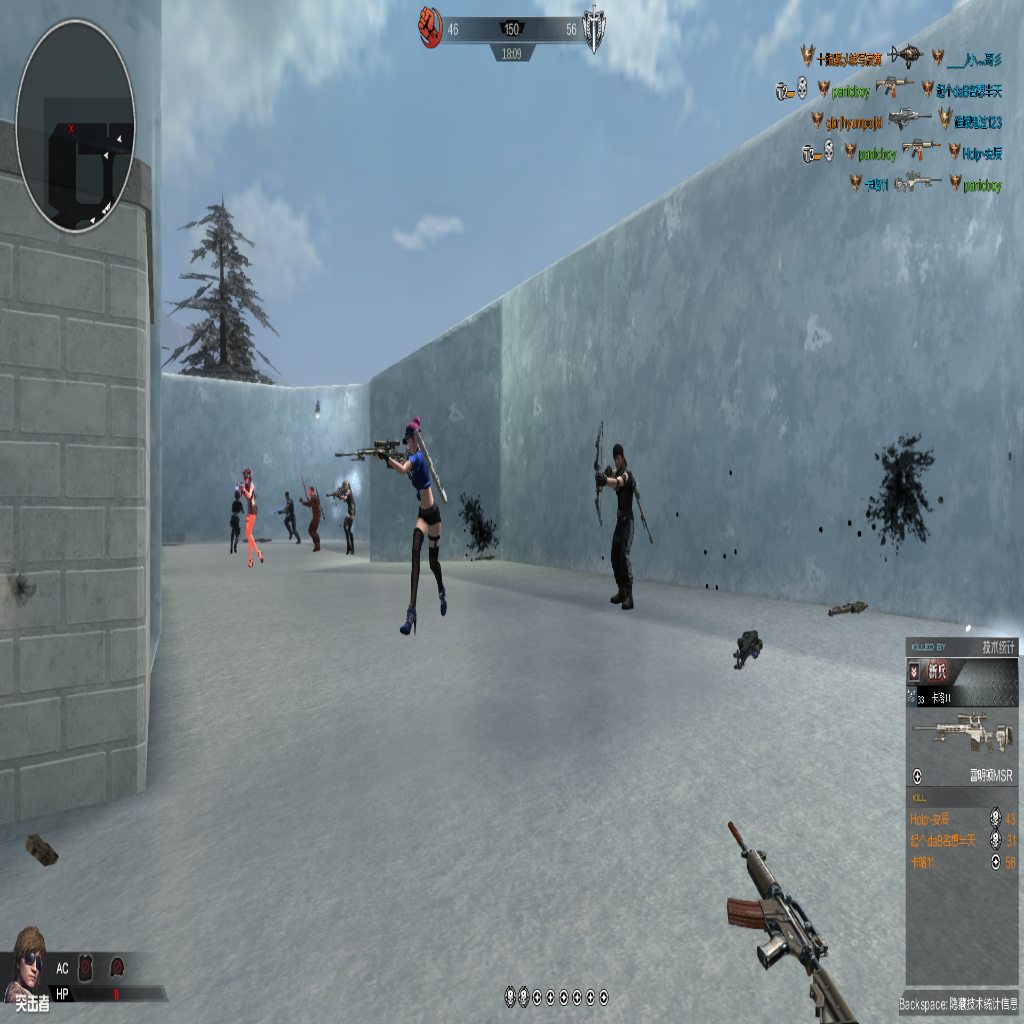ct: (376, 420, 449, 633), (596, 440, 643, 615), (238, 466, 261, 568), (303, 483, 325, 554), (337, 481, 357, 556), (279, 490, 300, 544), (229, 485, 242, 558)
